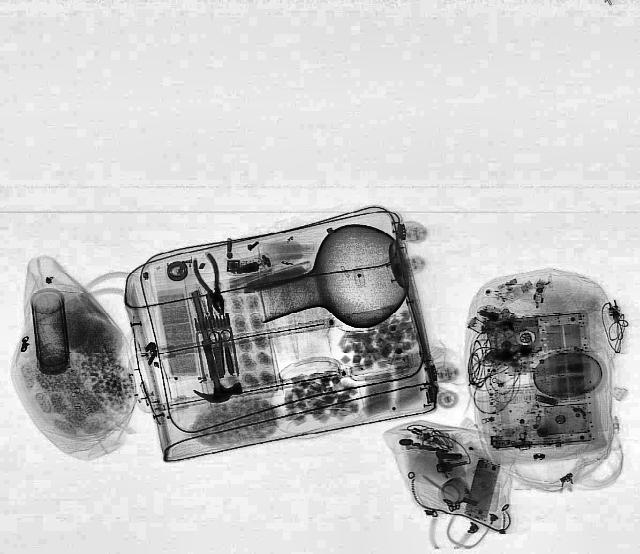Pliers: (188, 251, 232, 317)
Scissors: (204, 330, 234, 362)
